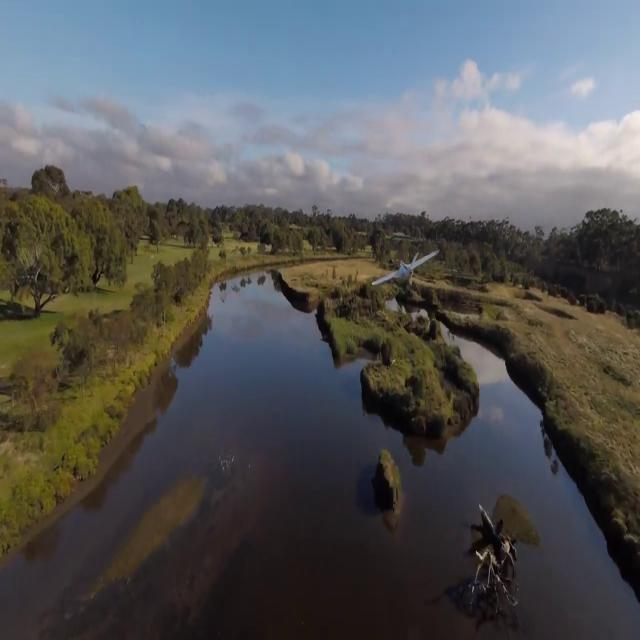iha: (404, 250, 408, 288)
